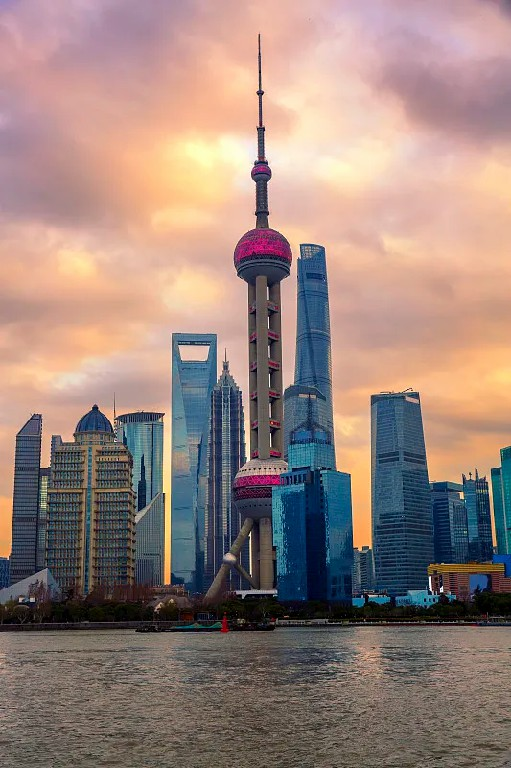Oriental: (205, 34, 292, 595)
